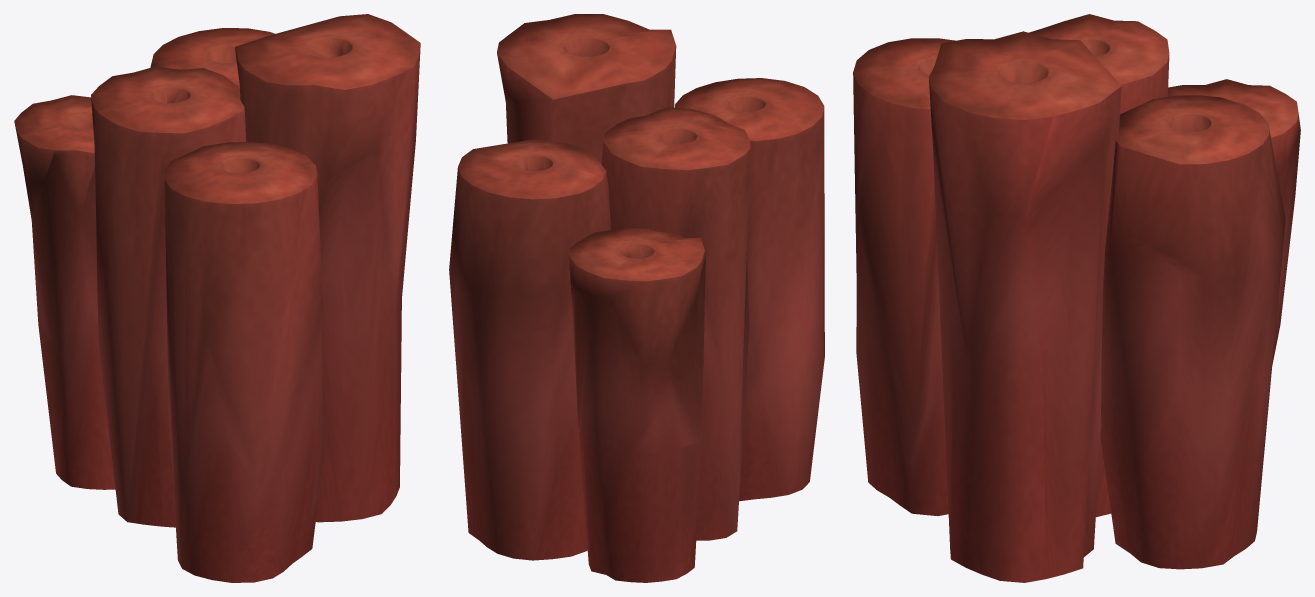
The model's file is seaGrassCylinderRedv1.fbx.
3 views of the same model, side by side, from view 1: azimuth 30°, elevation 25°; view 2: azimuth 150°, elevation 25°; view 3: azimuth 270°, elevation 25° (orthographic). The views are drawn at different scales.
Visible parts, largest first — view 1: seaGrassCylinderRedv1Object; view 2: seaGrassCylinderRedv1Object; view 3: seaGrassCylinderRedv1Object.
Boxes of the visible parts, x1,y1,x2,y2 form: seaGrassCylinderRedv1Object: (14,14,420,582); seaGrassCylinderRedv1Object: (449,14,824,582); seaGrassCylinderRedv1Object: (853,14,1300,582).
Bounding box in the file's own units: 0.0809 × 0.1194 × 0.101.
Materials: 1 (1 with a texture image).
